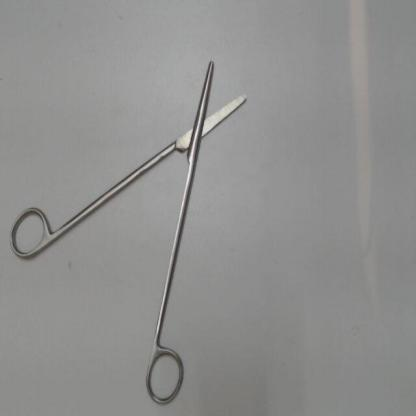9 Metzenbaum Scissors: (4, 56, 255, 412)
